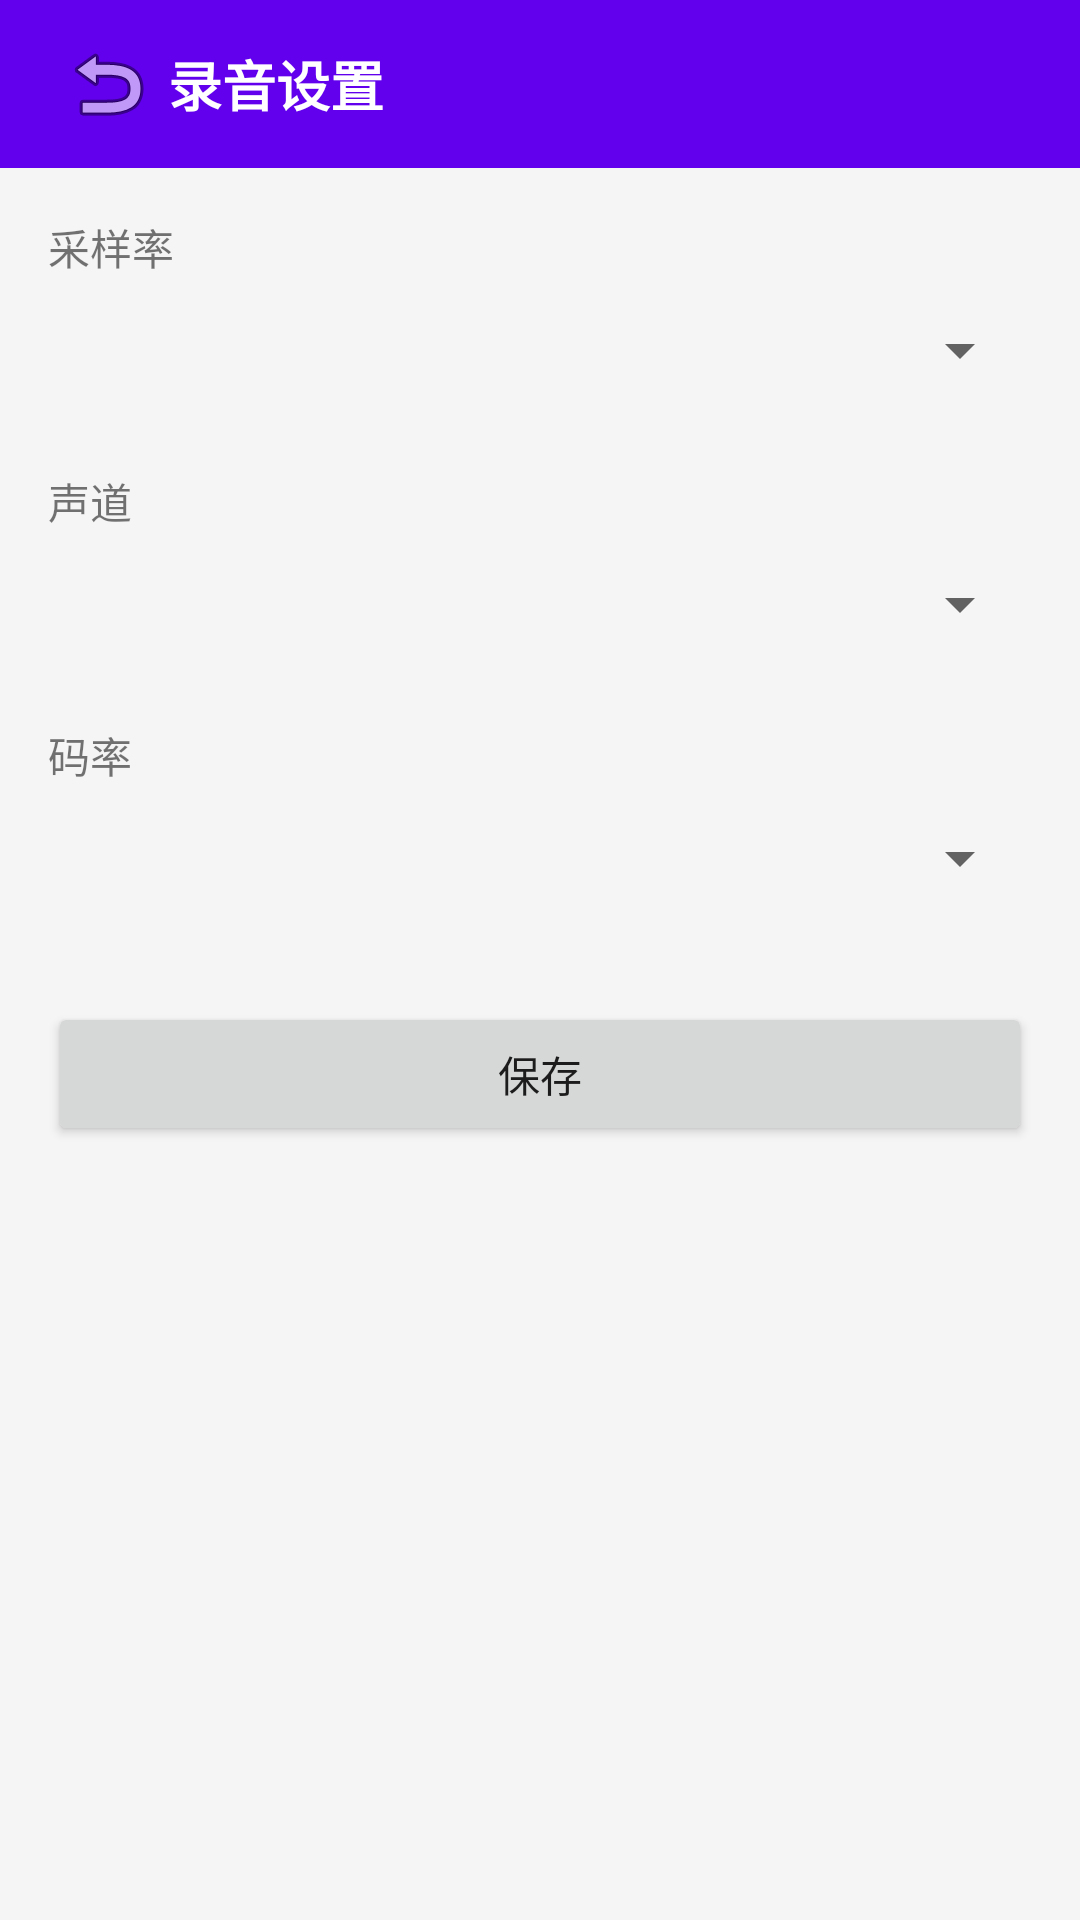

Screen size 1080w x 1920h. Icon name, then its center in pixels as (x,y):
revert: (109,84)
